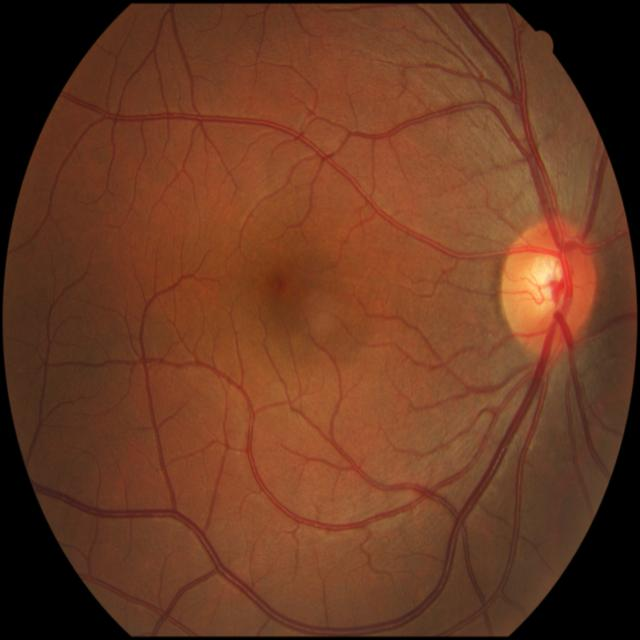OC: (529, 255, 566, 310)
OD: (500, 220, 599, 352)
